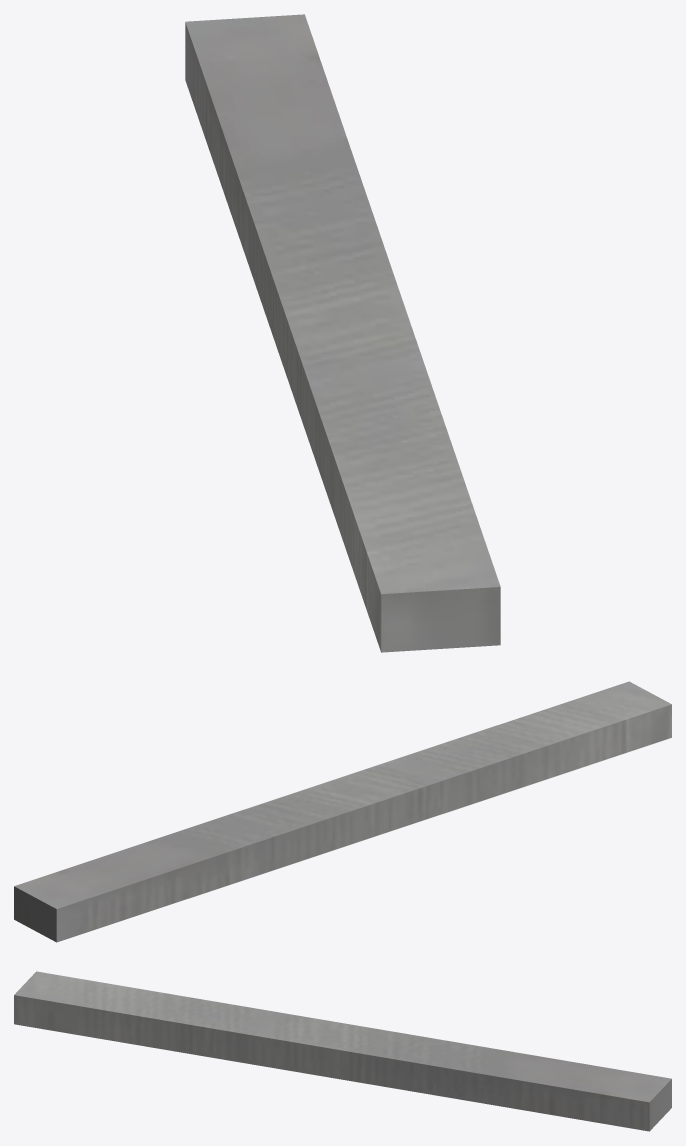
File: ladder_support__side_bar_0.glb
3 views of the same model, one above another, from view 1: azimuth 30°, elevation 25°; view 2: azimuth 150°, elevation 25°; view 3: azimuth 270°, elevation 25° (orthographic). The views are drawn at different scales.
Parts seen in each view (by area): view 1: geometry_0; view 2: geometry_0; view 3: geometry_0.
Boxes of the visible parts, x1,y1,x2,y2 form: geometry_0: [185, 14, 500, 652]; geometry_0: [14, 681, 671, 942]; geometry_0: [14, 971, 671, 1131].
Bounding box in the file's own units: 0.154 × 0.016 × 0.3269.
Materials: 1 (1 with a texture image).
